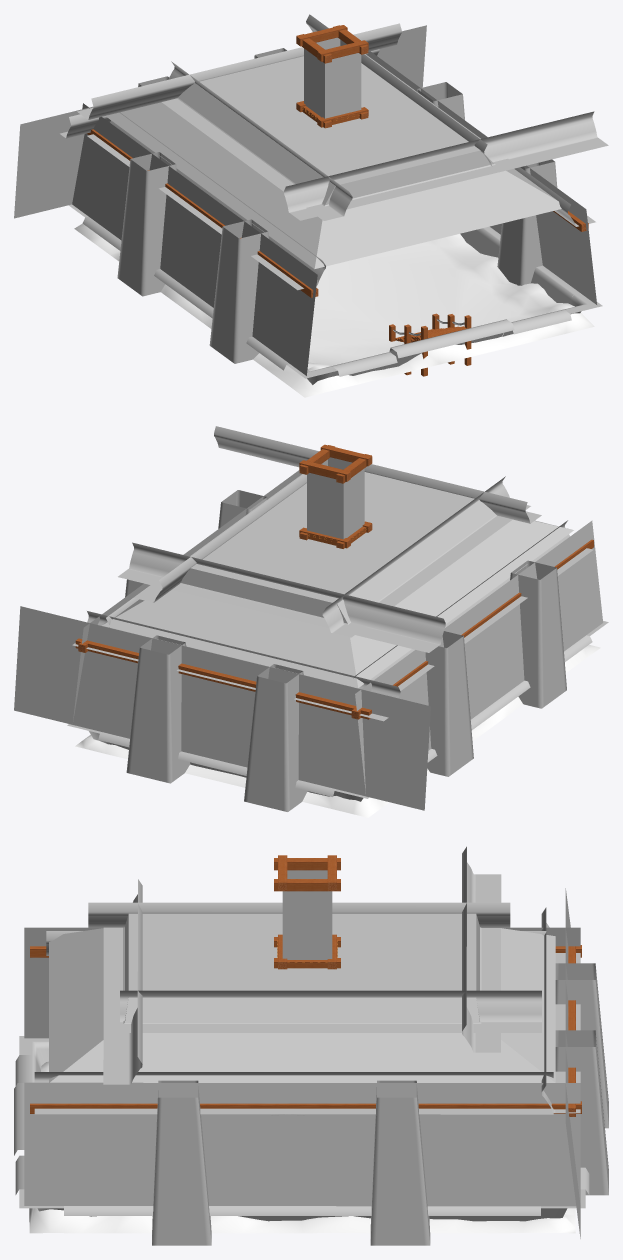
The model's file is Armory_B.fbx.
3 renders of one model, top to bottom at view 1: azimuth 30°, elevation 25°; view 2: azimuth 150°, elevation 25°; view 3: azimuth 270°, elevation 25°, orthographic. The views are drawn at different scales.
Visible parts, largest first — view 1: MeshBakerResult.276; view 2: MeshBakerResult.276; view 3: MeshBakerResult.276.
Part boxes in pixels (x1=…): MeshBakerResult.276: x1=14, y1=14, x2=608, y2=397; MeshBakerResult.276: x1=14, y1=426, x2=608, y2=817; MeshBakerResult.276: x1=14, y1=846, x2=608, y2=1245.
Bounding box in the file's own units: 2800 × 1773 × 2995.
